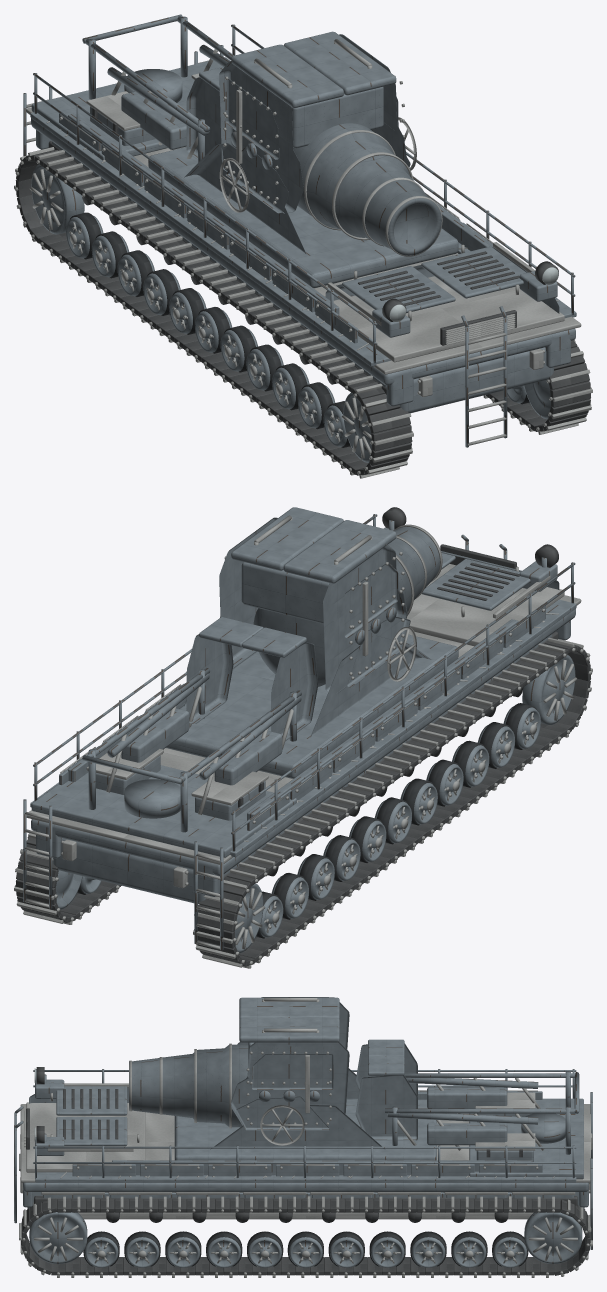
Rendered from tracked-mortar(2).glb.
3 renders of one model, top to bottom at view 1: azimuth 30°, elevation 25°; view 2: azimuth 150°, elevation 25°; view 3: azimuth 270°, elevation 25°, orthographic. The views are drawn at different scales.
Visible parts, largest first — view 1: cradle-graphite-painted-steel-batch, running-gear-panel-shadow-batch, chassis-graphite-painted-steel-batch, platform-graphite-painted-steel-batch, running-gear-cast-edge-steel-batch, carriage-graphite-painted-steel-batch, barrel-tube-exterior-batch, running-gear-graphite-painted-steel-batch, engine-cast-edge-steel-batch, mechanisms-graphite-painted-steel-batch, engine-graphite-painted-steel-batch, running-gear-dark-running-bands-batch (+6 smaller); view 2: platform-graphite-painted-steel-batch, cradle-graphite-painted-steel-batch, running-gear-panel-shadow-batch, chassis-graphite-painted-steel-batch, mechanisms-graphite-painted-steel-batch, carriage-graphite-painted-steel-batch, running-gear-cast-edge-steel-batch, running-gear-graphite-painted-steel-batch, running-gear-dark-running-bands-batch, chassis-cast-edge-steel-batch, engine-cast-edge-steel-batch, barrel-tube-exterior-batch (+6 smaller); view 3: running-gear-panel-shadow-batch, chassis-graphite-painted-steel-batch, mechanisms-graphite-painted-steel-batch, platform-graphite-painted-steel-batch, cradle-graphite-painted-steel-batch, running-gear-graphite-painted-steel-batch, carriage-graphite-painted-steel-batch, chassis-cast-edge-steel-batch, barrel-tube-exterior-batch, running-gear-cast-edge-steel-batch, engine-graphite-painted-steel-batch, engine-cast-edge-steel-batch (+7 smaller).
Boxes of the visible parts, bbox=[...] form: cradle-graphite-painted-steel-batch: bbox=[219, 31, 410, 213]; running-gear-panel-shadow-batch: bbox=[15, 150, 590, 475]; chassis-graphite-painted-steel-batch: bbox=[31, 112, 575, 413]; platform-graphite-painted-steel-batch: bbox=[23, 24, 576, 366]; running-gear-cast-edge-steel-batch: bbox=[14, 147, 592, 478]; carriage-graphite-painted-steel-batch: bbox=[148, 143, 458, 288]; barrel-tube-exterior-batch: bbox=[293, 123, 441, 255]; running-gear-graphite-painted-steel-batch: bbox=[31, 164, 550, 462]; engine-cast-edge-steel-batch: bbox=[327, 242, 564, 445]; mechanisms-graphite-painted-steel-batch: bbox=[82, 14, 233, 162]; engine-graphite-painted-steel-batch: bbox=[325, 246, 559, 447]; running-gear-dark-running-bands-batch: bbox=[70, 212, 529, 447]; platform-graphite-painted-steel-batch: bbox=[23, 514, 576, 950]; cradle-graphite-painted-steel-batch: bbox=[219, 507, 410, 693]; running-gear-panel-shadow-batch: bbox=[16, 641, 590, 966]; chassis-graphite-painted-steel-batch: bbox=[31, 604, 575, 904]; mechanisms-graphite-painted-steel-batch: bbox=[82, 617, 318, 832]; carriage-graphite-painted-steel-batch: bbox=[166, 634, 458, 778]; running-gear-cast-edge-steel-batch: bbox=[14, 637, 592, 968]; running-gear-graphite-painted-steel-batch: bbox=[56, 655, 575, 953]; running-gear-dark-running-bands-batch: bbox=[77, 703, 537, 938]; chassis-cast-edge-steel-batch: bbox=[26, 595, 581, 888]; engine-cast-edge-steel-batch: bbox=[406, 564, 564, 646]; barrel-tube-exterior-batch: bbox=[253, 526, 439, 686]; running-gear-panel-shadow-batch: bbox=[21, 1198, 590, 1275]; chassis-graphite-painted-steel-batch: bbox=[23, 1091, 588, 1208]; mechanisms-graphite-painted-steel-batch: bbox=[355, 1039, 579, 1154]; platform-graphite-painted-steel-batch: bbox=[33, 1069, 592, 1249]; cradle-graphite-painted-steel-batch: bbox=[231, 997, 349, 1130]; running-gear-graphite-painted-steel-batch: bbox=[29, 1212, 582, 1267]; carriage-graphite-painted-steel-batch: bbox=[174, 1068, 436, 1160]; chassis-cast-edge-steel-batch: bbox=[20, 1090, 592, 1219]; barrel-tube-exterior-batch: bbox=[129, 1044, 248, 1127]; running-gear-cast-edge-steel-batch: bbox=[19, 1153, 592, 1277]; engine-graphite-painted-steel-batch: bbox=[14, 1074, 128, 1223]; engine-cast-edge-steel-batch: bbox=[14, 1083, 145, 1220].
Bounding box in the file's own units: 3.69 × 4.49 × 10.6.
Materials: 6 (6 with a texture image).
